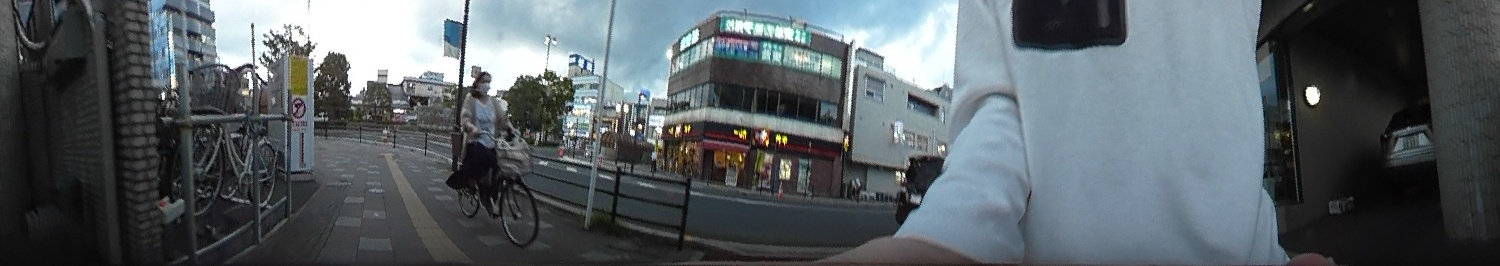person: (449, 63, 509, 216)
